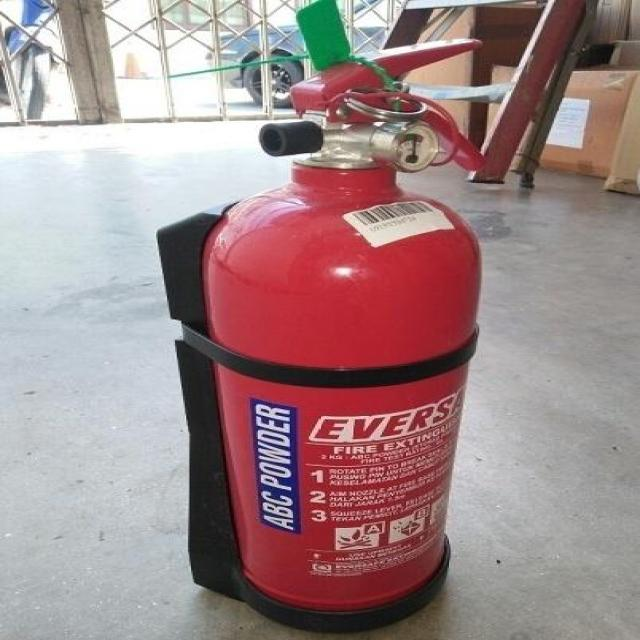fire_extinguisher: (192, 0, 501, 639)
